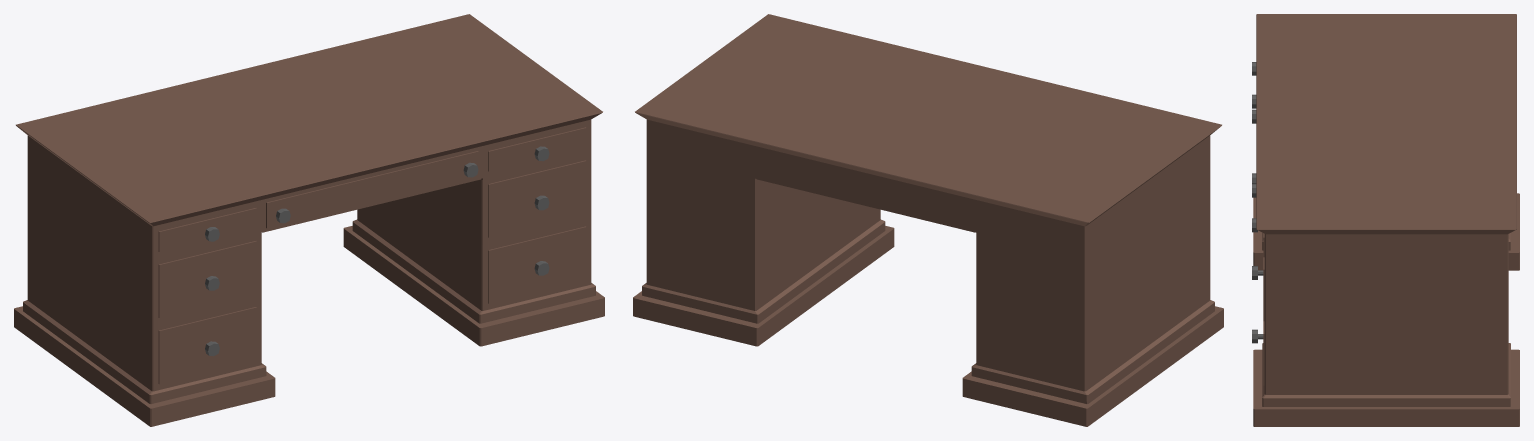
File: ExecutiveDesk1.glb
The picture shows the model from 3 angles, left to right: view 1: azimuth 30°, elevation 25°; view 2: azimuth 150°, elevation 25°; view 3: azimuth 270°, elevation 25°; orthographic projection. The views are drawn at different scales.
Visible parts, largest first — view 1: ExecutiveDesk1, Drawer4_ExecutiveDesk1, Drawer7_ExecutiveDesk1, Drawer6_ExecutiveDesk1, Drawer3_ExecutiveDesk1, Drawer2_ExecutiveDesk1, Drawer1_ExecutiveDesk1, Drawer5_ExecutiveDesk1; view 2: ExecutiveDesk1; view 3: ExecutiveDesk1.
Part boxes in pixels (x1=…): ExecutiveDesk1: x1=14, y1=14, x2=604, y2=426; Drawer4_ExecutiveDesk1: x1=266, y1=151, x2=478, y2=228; Drawer7_ExecutiveDesk1: x1=488, y1=226, x2=586, y2=303; Drawer6_ExecutiveDesk1: x1=488, y1=160, x2=586, y2=237; Drawer3_ExecutiveDesk1: x1=158, y1=307, x2=256, y2=384; Drawer2_ExecutiveDesk1: x1=158, y1=241, x2=256, y2=318; Drawer1_ExecutiveDesk1: x1=158, y1=208, x2=256, y2=252; Drawer5_ExecutiveDesk1: x1=488, y1=127, x2=586, y2=171; ExecutiveDesk1: x1=633, y1=14, x2=1223, y2=426; ExecutiveDesk1: x1=1253, y1=14, x2=1519, y2=426.
Size of the model in its own units: 2.05 by 0.8744 by 1.08.
